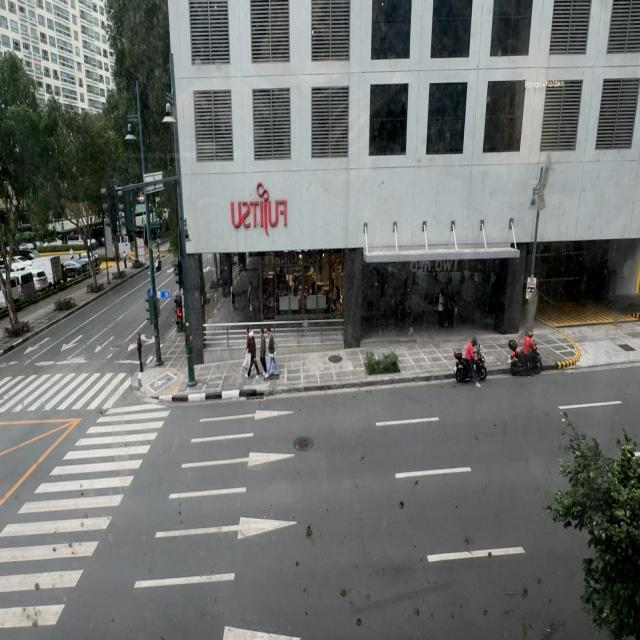waiting: (136, 332, 144, 374)
